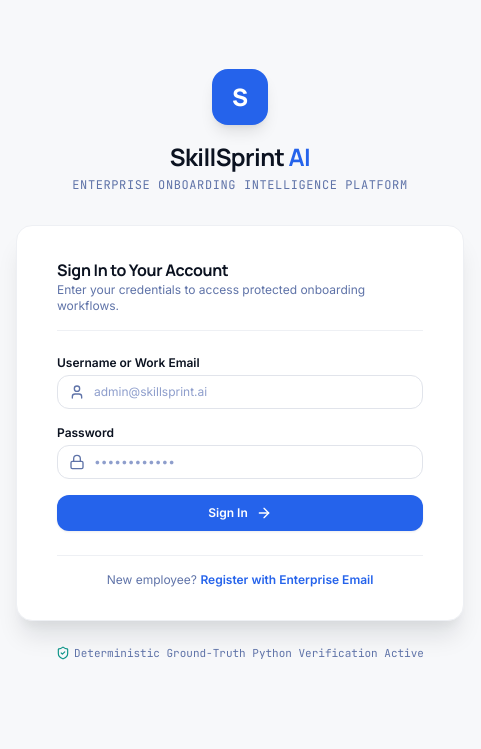
Test: SkillSprint AI — Authentication & Production Routing Test Suite › navigates from Login page to Employee Registration page
Click the link "Register with Enterprise Email": (287, 579) [200,572,373,587]
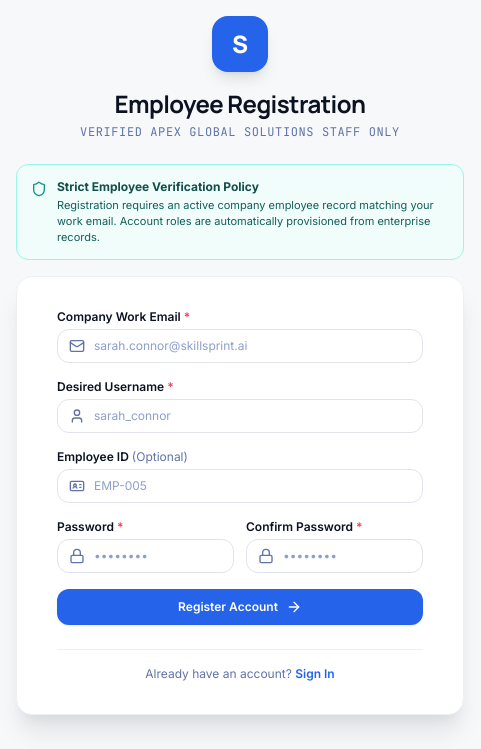
Expected: the heading "Employee Registration" is shown, [115,86,365,120]
Expected: the text "Strict Employee Verification Policy" is shown, [57,178,259,194]
